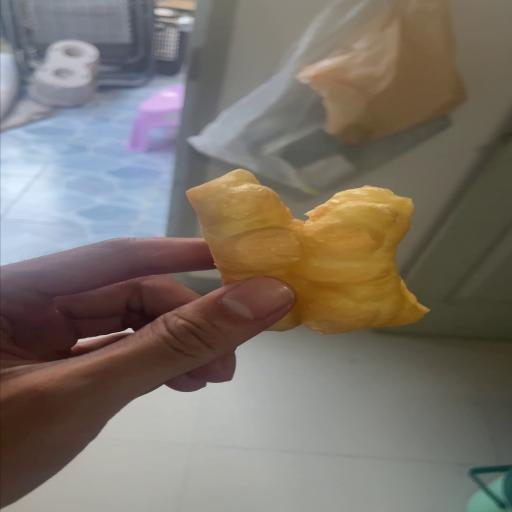street_golden_good: (187, 169, 429, 334)
